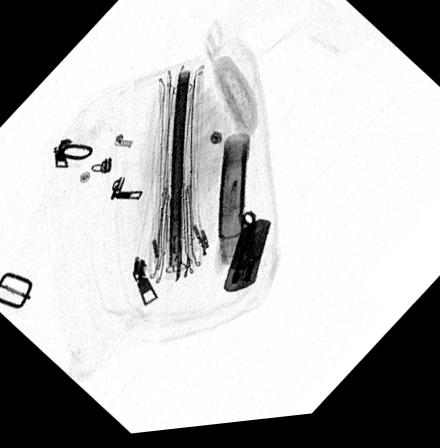Lighter: (222, 224, 270, 297)
